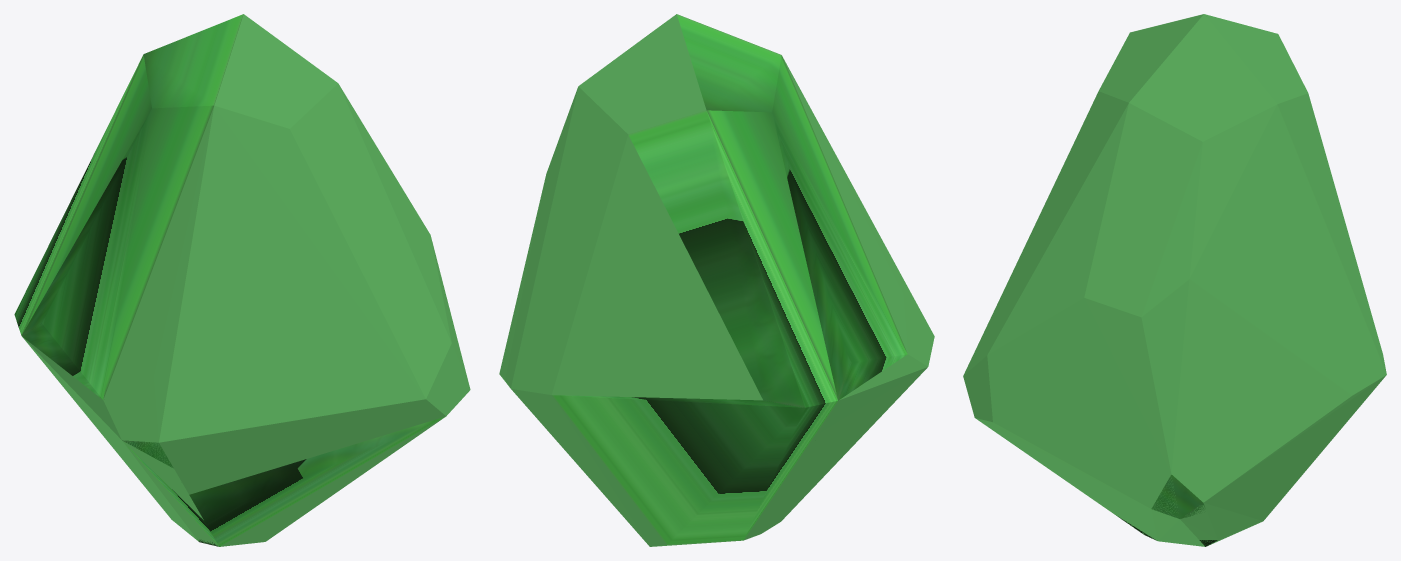
The model's file is test-actor.glb.
The picture shows the model from 3 angles, left to right: view 1: azimuth 30°, elevation 25°; view 2: azimuth 150°, elevation 25°; view 3: azimuth 270°, elevation 25°; orthographic projection. The views are drawn at different scales.
Visible parts, largest first — view 1: crystalMed02.cmesh, crystalMed02; view 2: crystalMed02.cmesh; view 3: crystalMed02.cmesh, crystalMed02.
Boxes of the visible parts, left/top/right/bottom form: crystalMed02.cmesh: left=14, top=14, right=470, bottom=546; crystalMed02: left=122, top=440, right=217, bottom=546; crystalMed02.cmesh: left=499, top=14, right=934, bottom=546; crystalMed02.cmesh: left=963, top=14, right=1386, bottom=546; crystalMed02: left=1118, top=475, right=1217, bottom=546.
Size of the model in its own units: 3.08 by 4.13 by 3.02.
2 materials, 2 textured.
